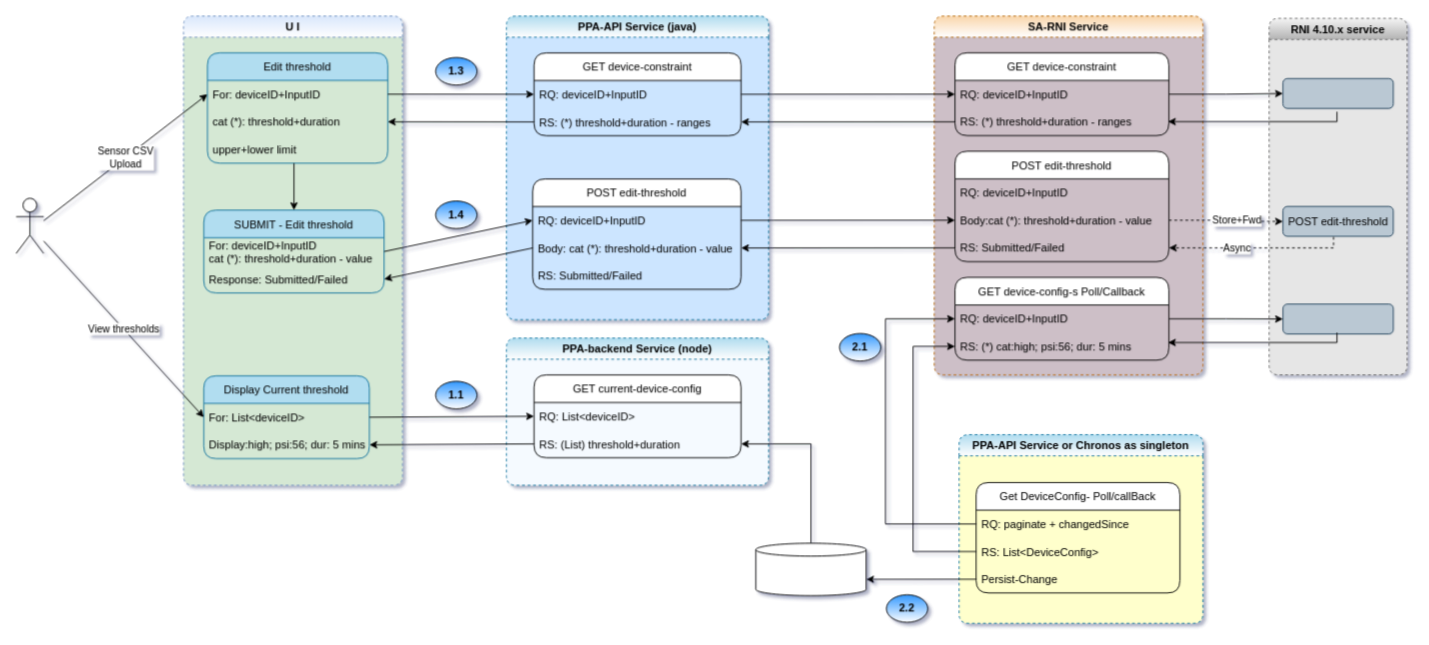
Image size: 1429x645. Some labels were removed from this diagram. The centre of each missing label's shape, as x and y in pixels:
"GET current-config" belongs at pixel 1337 318.
"GET event-ranges" belongs at pixel 1337 93.
"PPA App DB" belongs at pixel 810 569.
"PPA User" belongs at pixel 29 225.
